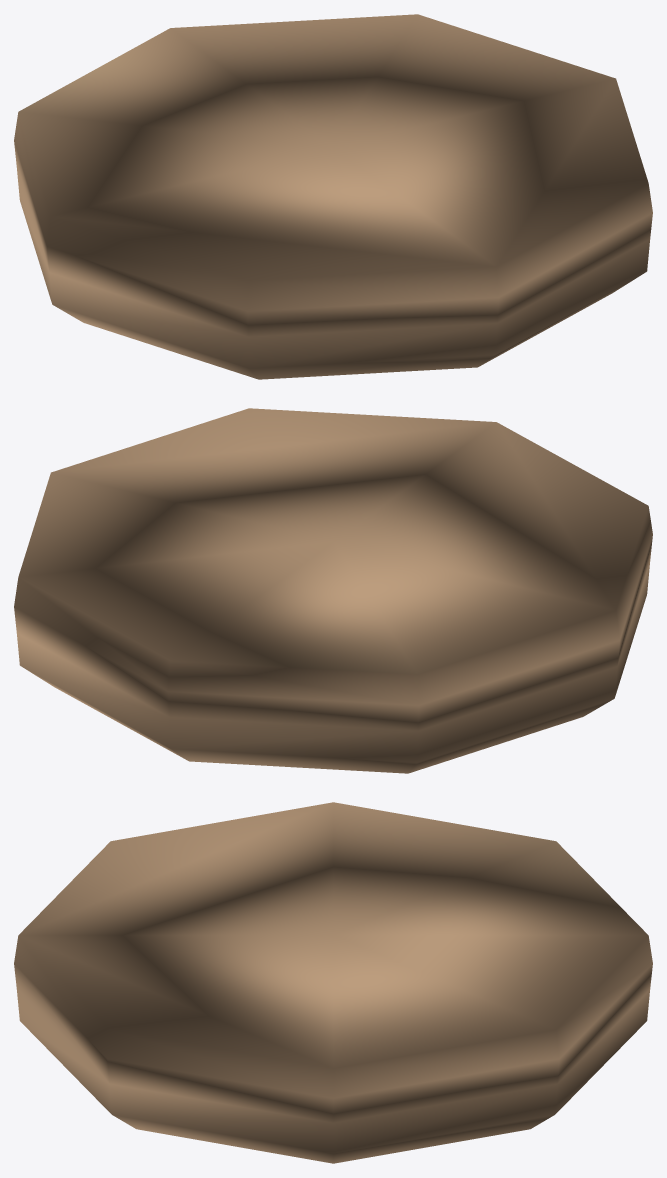
The model's file is ING_burgerBun_BotV03.fbx.
3 renders of one model, top to bottom at view 1: azimuth 30°, elevation 25°; view 2: azimuth 150°, elevation 25°; view 3: azimuth 270°, elevation 25°, orthographic. The views are drawn at different scales.
Visible parts, largest first — view 1: bun_top; view 2: bun_top; view 3: bun_top.
Boxes of the visible parts, box(x1,y1,x2,y2) form: bun_top: box(14, 14, 652, 379); bun_top: box(14, 408, 652, 773); bun_top: box(14, 802, 652, 1163).
Size of the model in its own units: 29.45 by 6.17 by 29.45.
